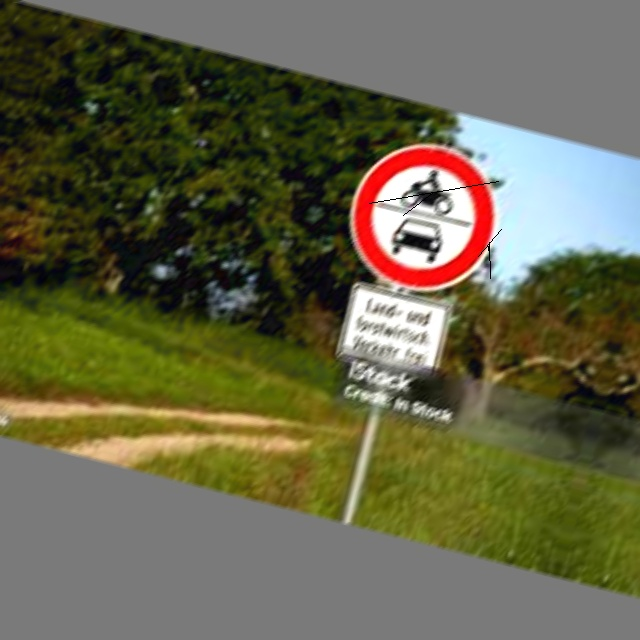All_Motor_Vehicles_Prohibited: (329, 123, 512, 306)
